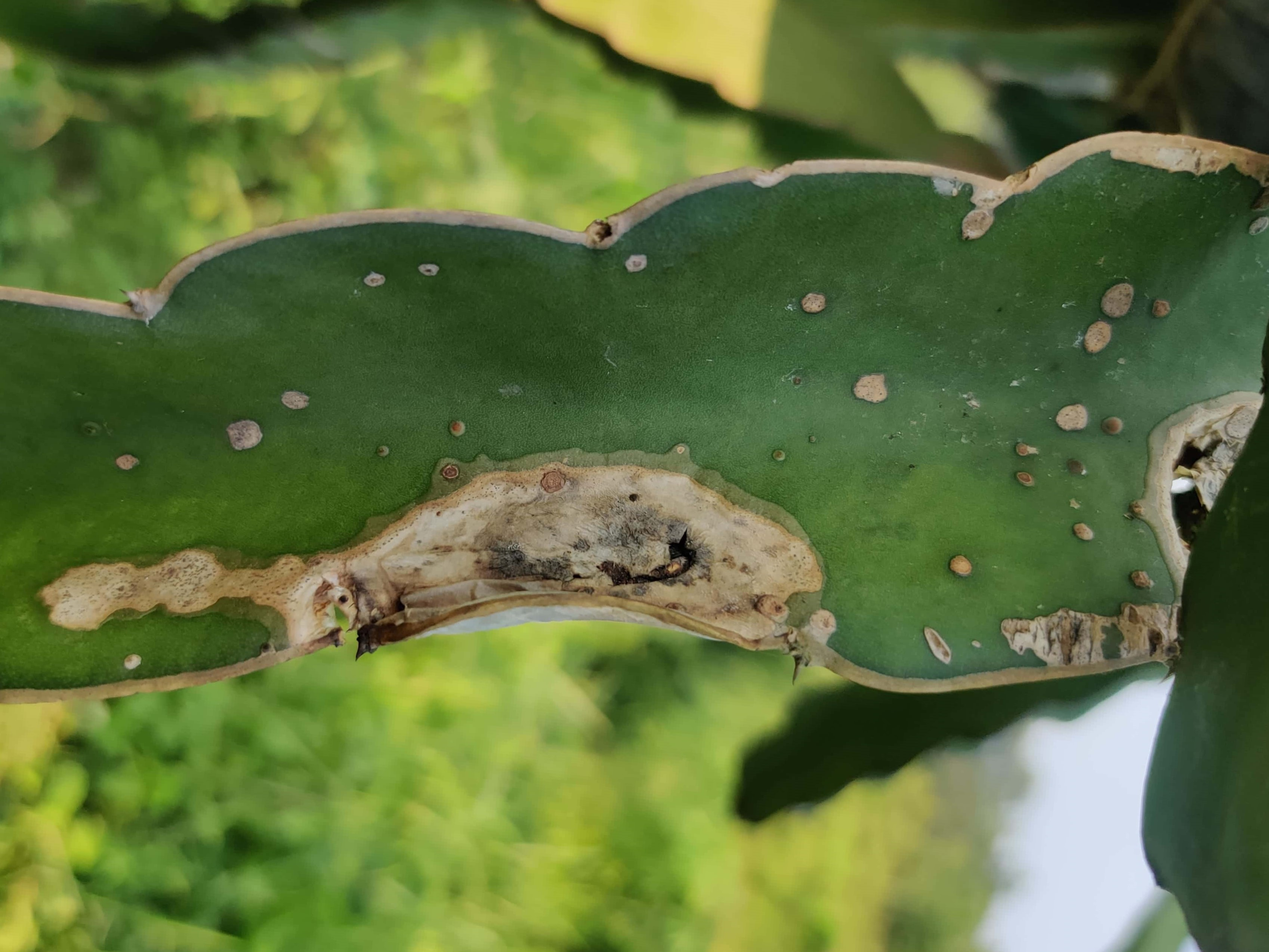stemcanker: (305, 446, 820, 675), (1151, 386, 1263, 554)
